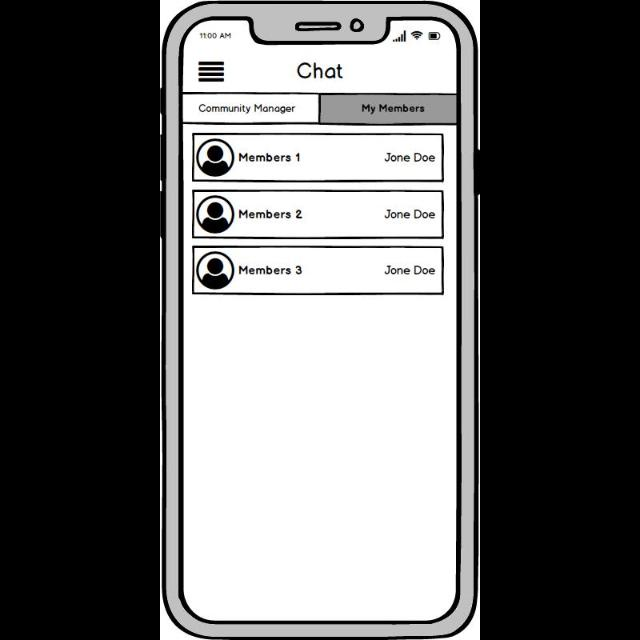icon: (197, 138, 236, 178), (197, 252, 236, 290), (197, 196, 235, 234), (198, 61, 226, 84)
text: (296, 61, 344, 81), (238, 208, 302, 220), (238, 264, 302, 276), (238, 151, 300, 163), (384, 264, 436, 276), (384, 208, 436, 220), (384, 152, 436, 164)
textbutton: (320, 93, 456, 125), (184, 93, 320, 125)
toolbar: (184, 47, 456, 93)
